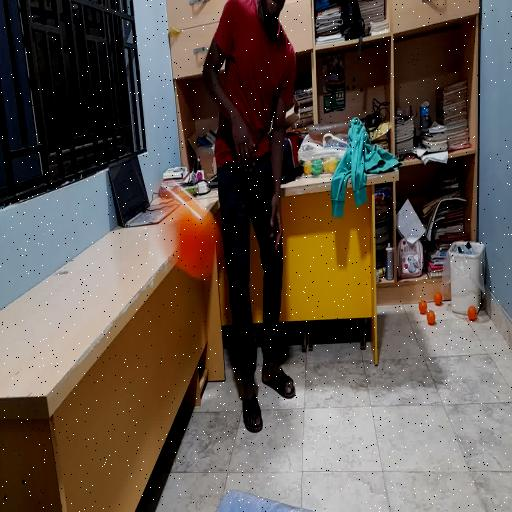plastic-ball: (170, 198, 220, 281)
